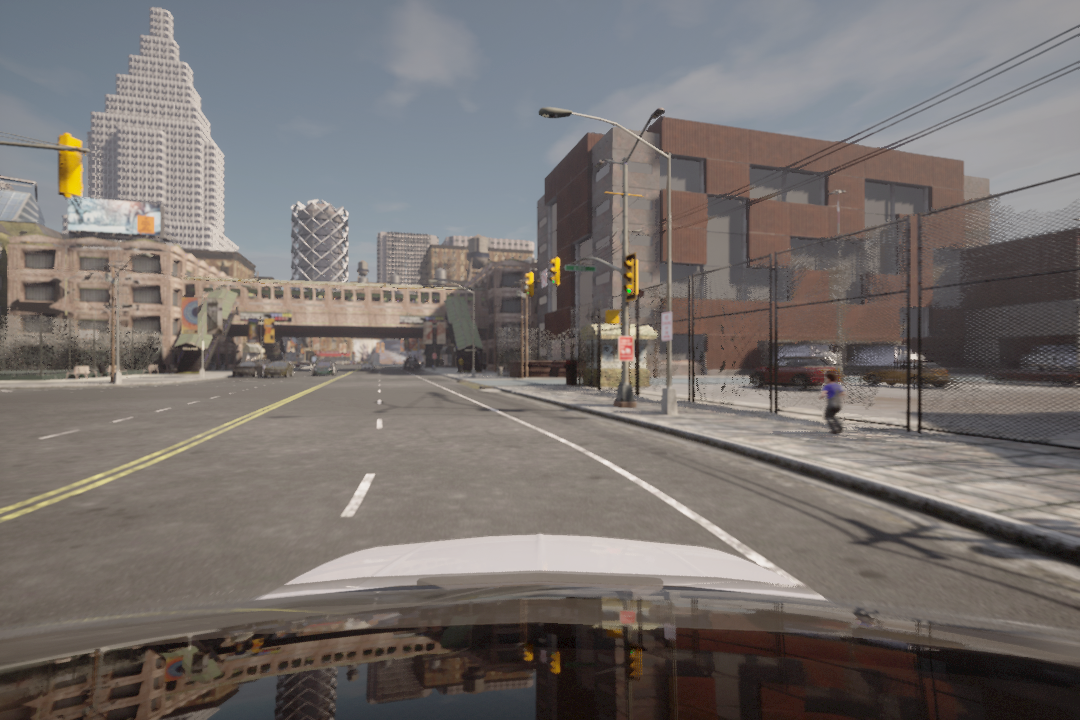TrafficLight: (624, 255, 641, 301), (546, 256, 565, 287), (524, 270, 535, 297)
